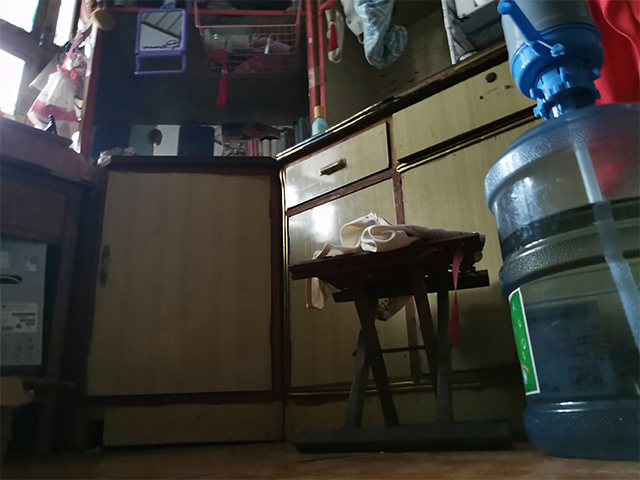cabinet: (83, 37, 555, 450)
stool: (285, 228, 516, 455)
table: (1, 153, 96, 461)
